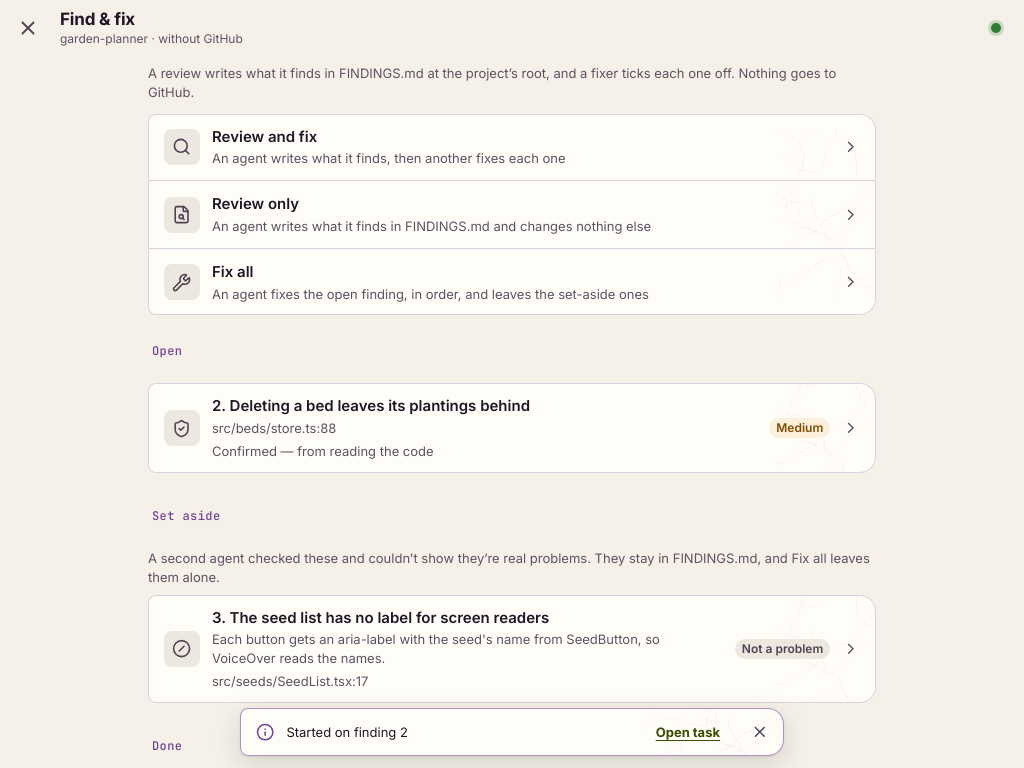
shows a finding's code example as written, with no row or fix for the headings in it, and none hidden after it
expect the button "99." is not shown: met
expect the button "Fix all" is enabled: met, box [148,248,876,316]
Click the button "2." at (182, 428), box [148,384,876,473]
Wait 900 ms
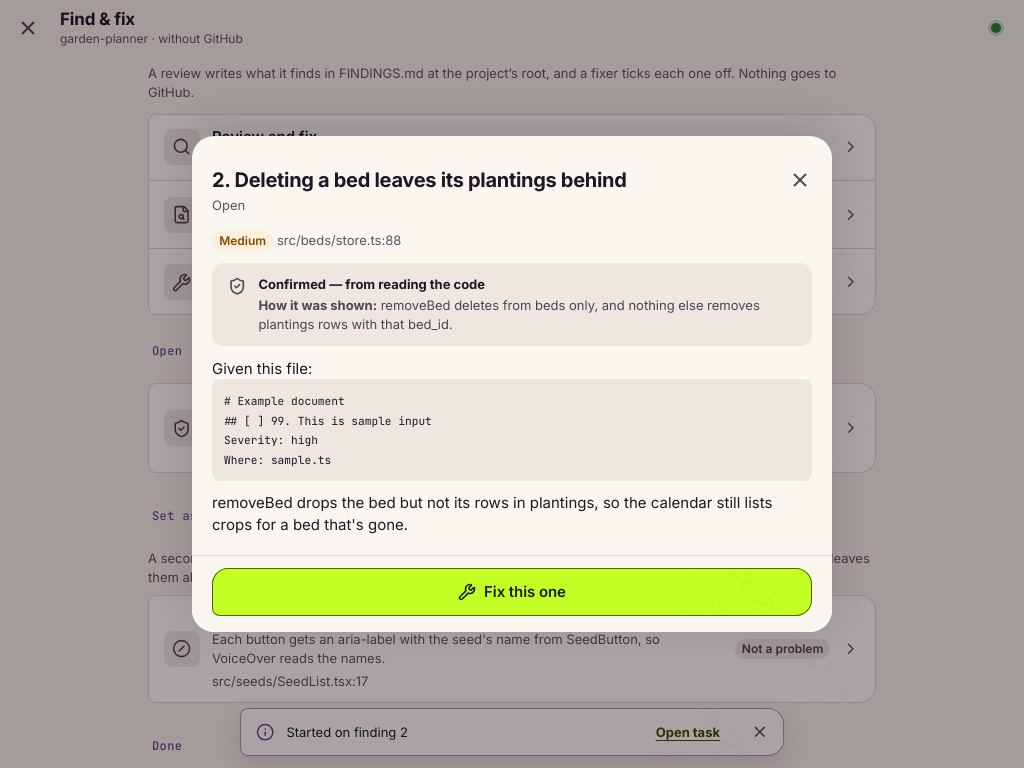
expect the text "removeBed drops the bed" is shown: met, box [212,493,772,534]
expect the text "src/beds/store.ts:88" is shown: met, box [277,232,401,248]
